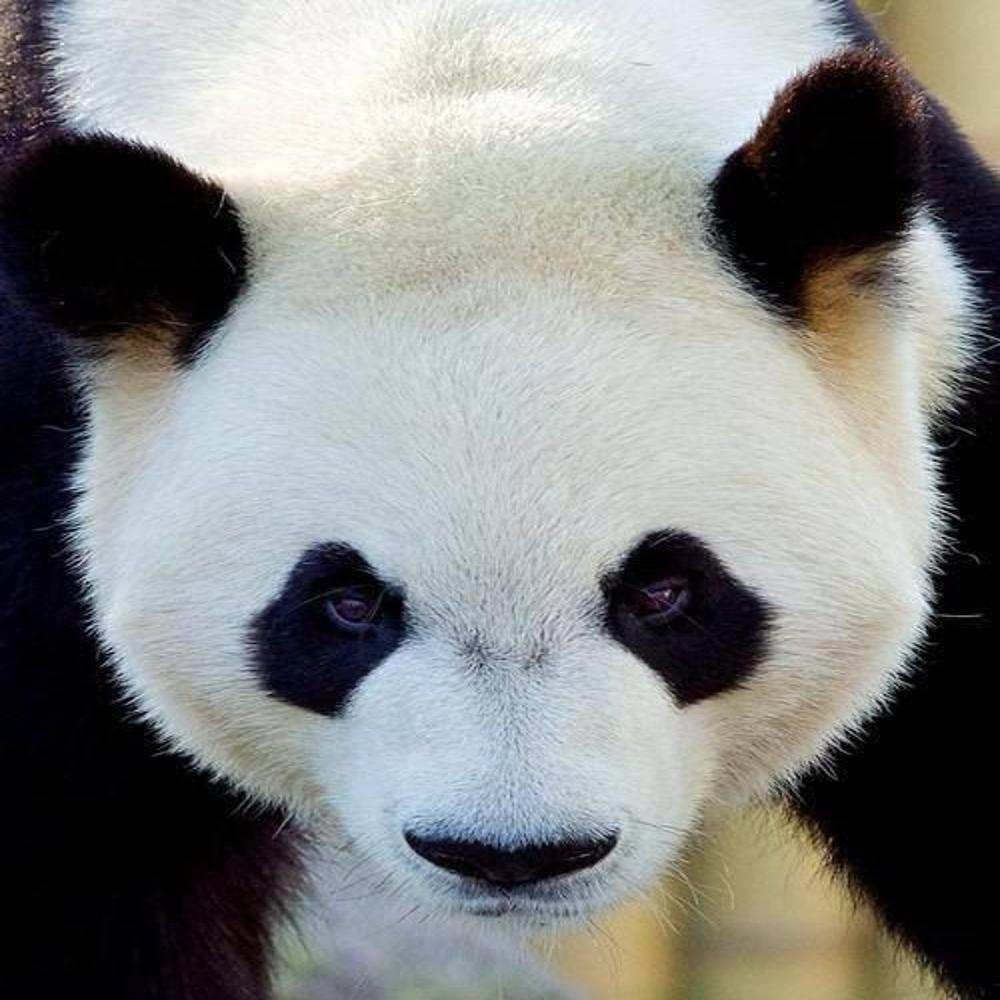panda: (8, 18, 1000, 939)
